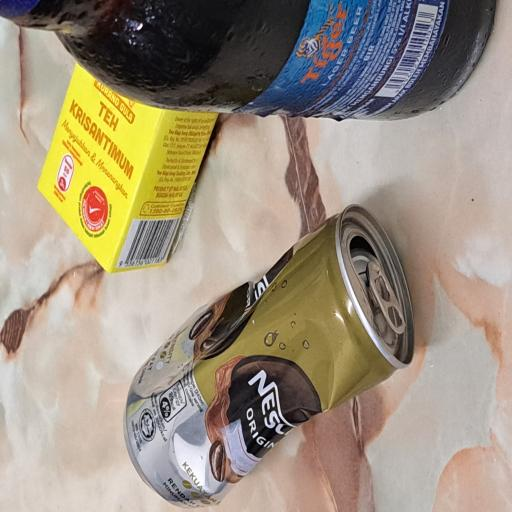can: (3, 163, 231, 512)
drink carton: (181, 50, 335, 294)
glass bottle: (294, 0, 384, 512)
pop tab: (133, 485, 191, 512)
